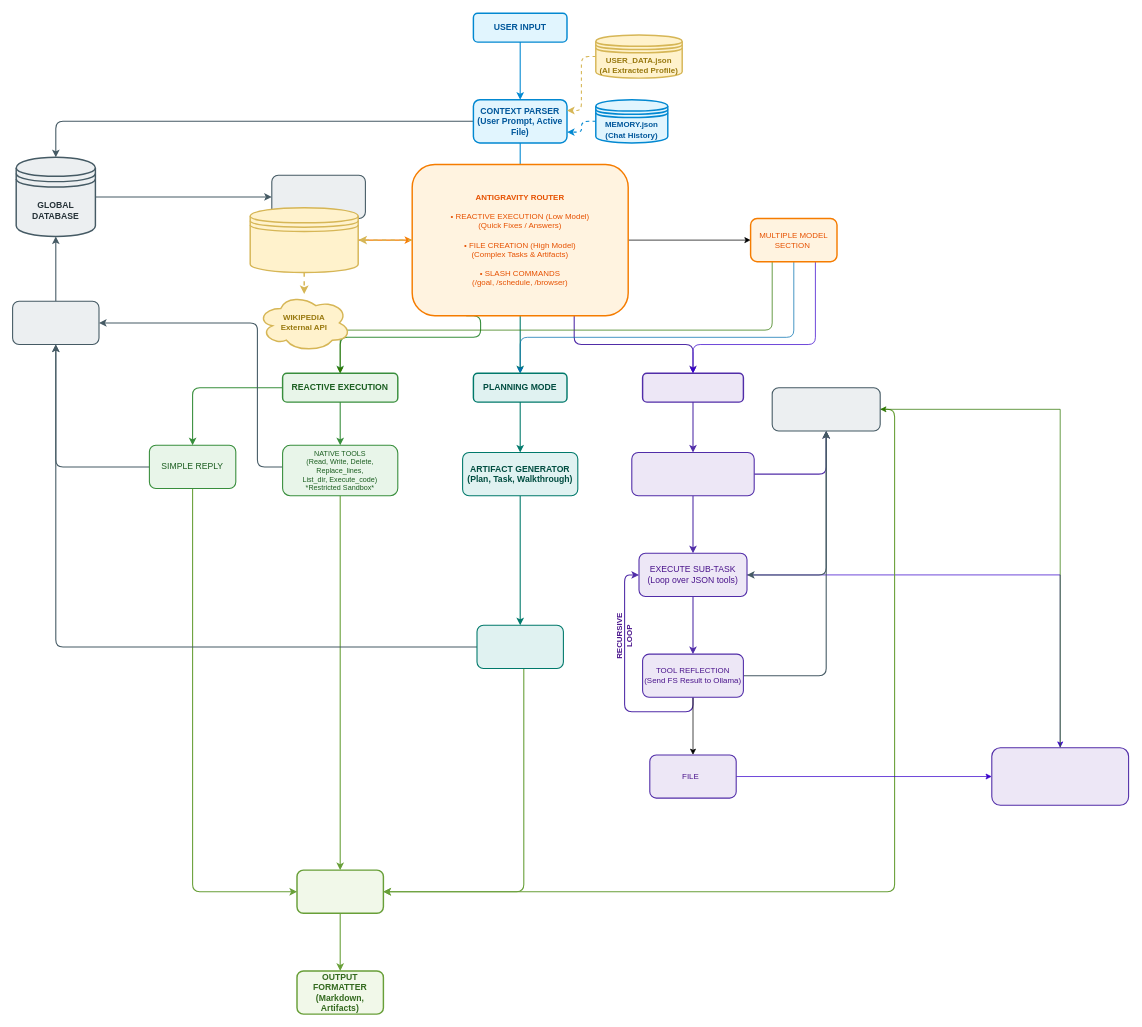
The diagram is 1142 pixels wide and 1027 high, and some of its shapes have lost their labels. The shapes that lost their labels are listed below. From the top down, each one's centre as x and y in pixels, then its label:
At (x=318, y=196): "PERSISTENT CONTEXT (KIs & Log History)".
At (x=304, y=240): "FEATURE DATABASE (AI Small Model checks if feature is available)".
At (x=55, y=322): "LOGS / CHAT HISTORY".
At (x=693, y=387): "SLASH COMMANDS".
At (x=825, y=409): "LOCAL BRAIN STORAGE (<appDataDir>\brain)".
At (x=692, y=474): "TASK DECOMPOSER & PLANNING PHASE (High Model writes plan.md)".
At (x=520, y=646): "JSON TOOL PARSER & FS EXECUTION".
At (x=1060, y=776): "CREATE , EDIT , READ , WRITE , DELETE {LOOP avalabel }".
At (x=340, y=891): "RESPONSE ASSEMBLER".
